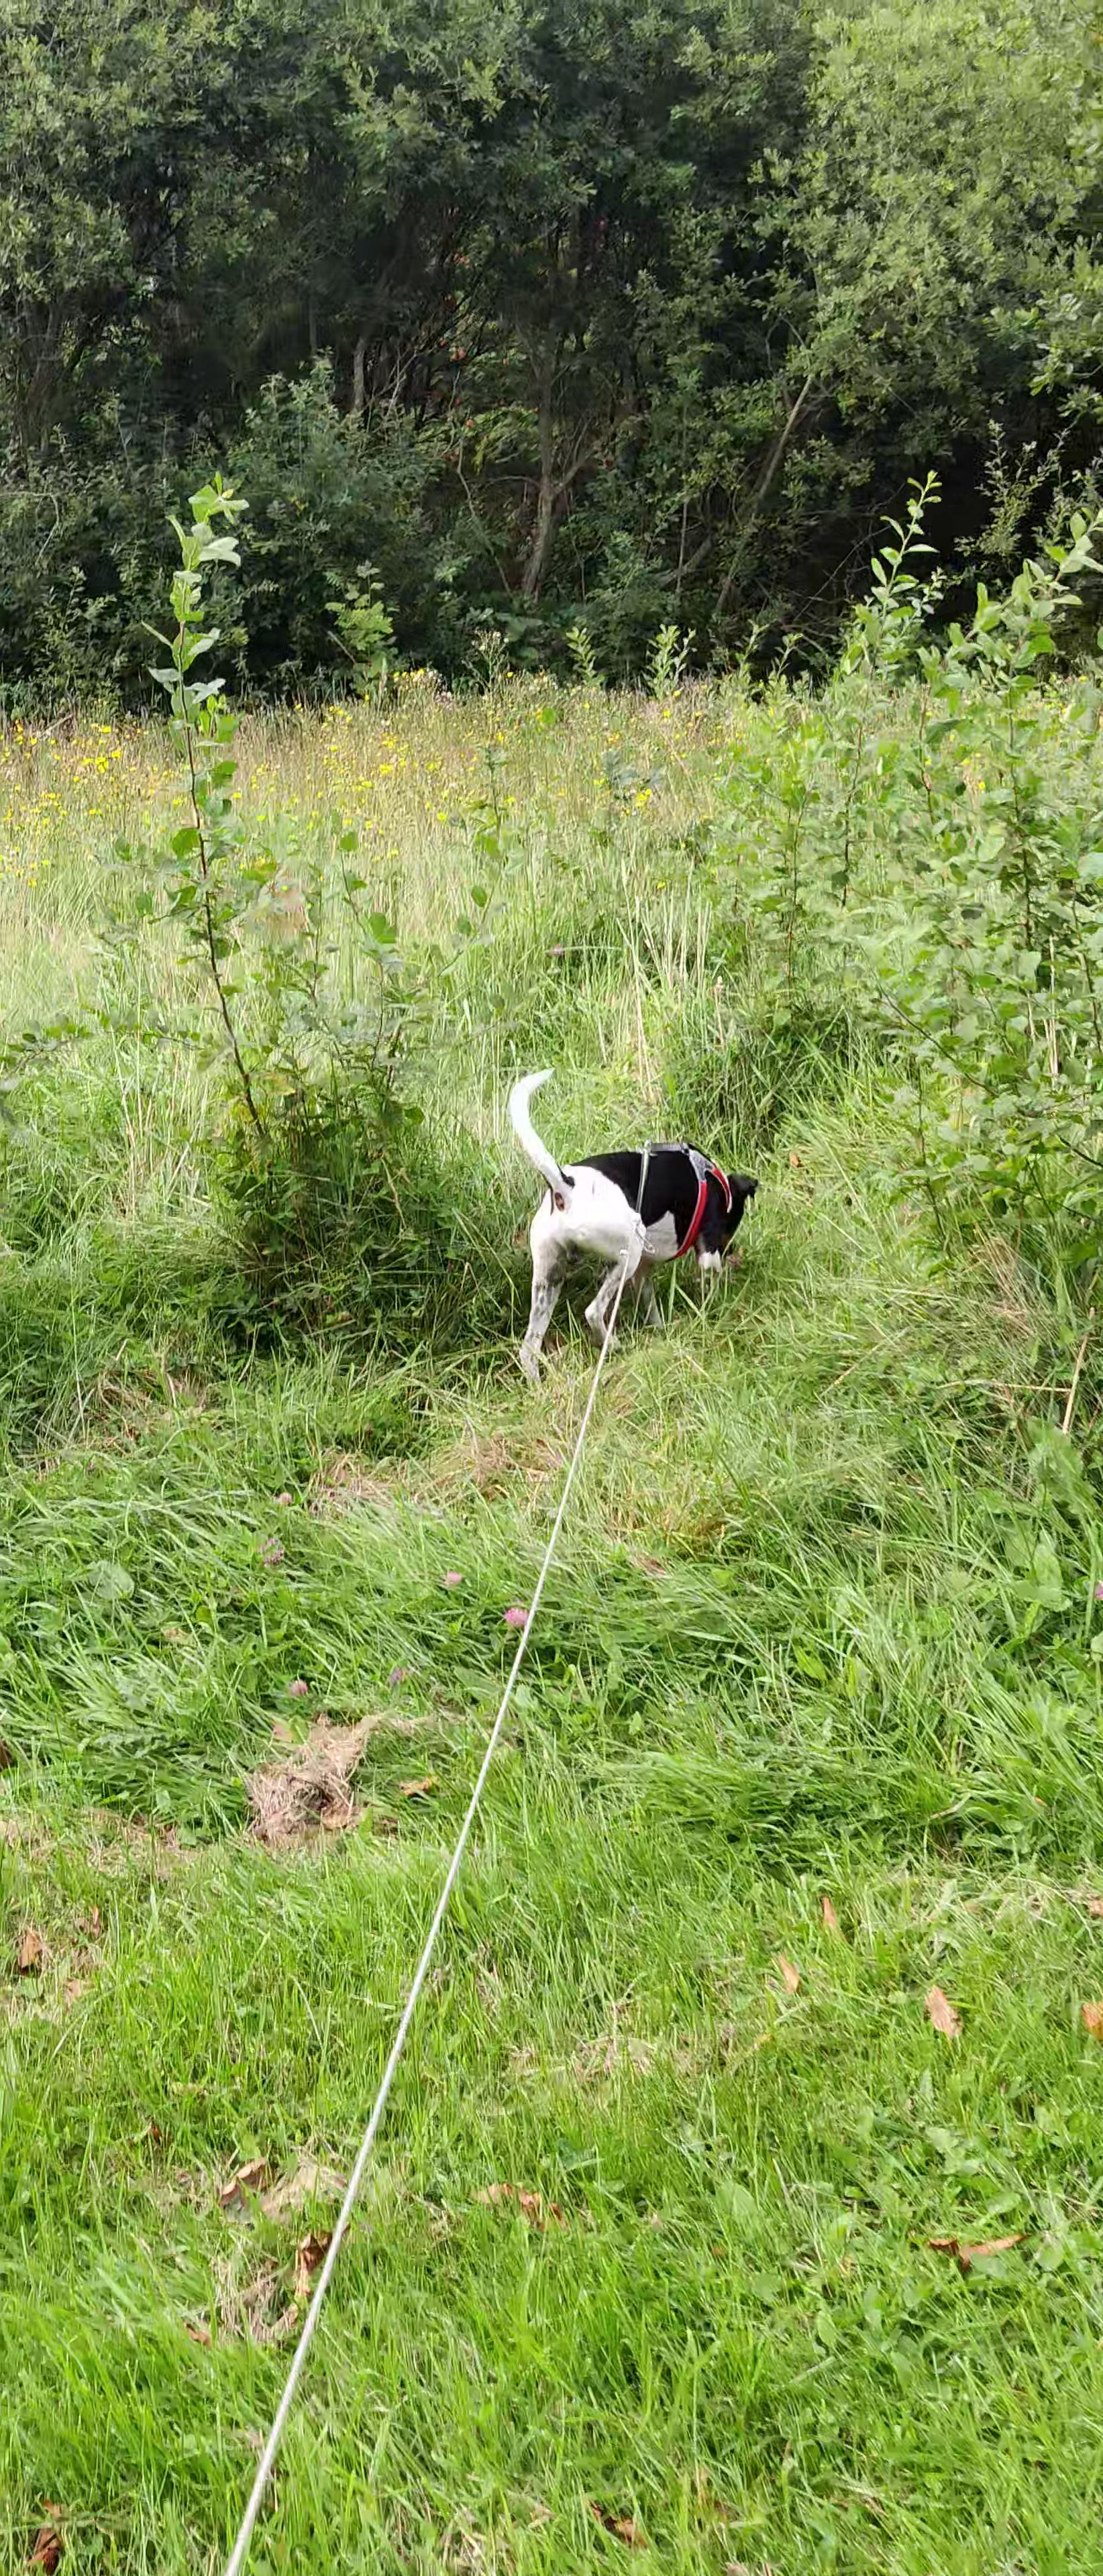Dog: (501, 1060, 766, 1398)
